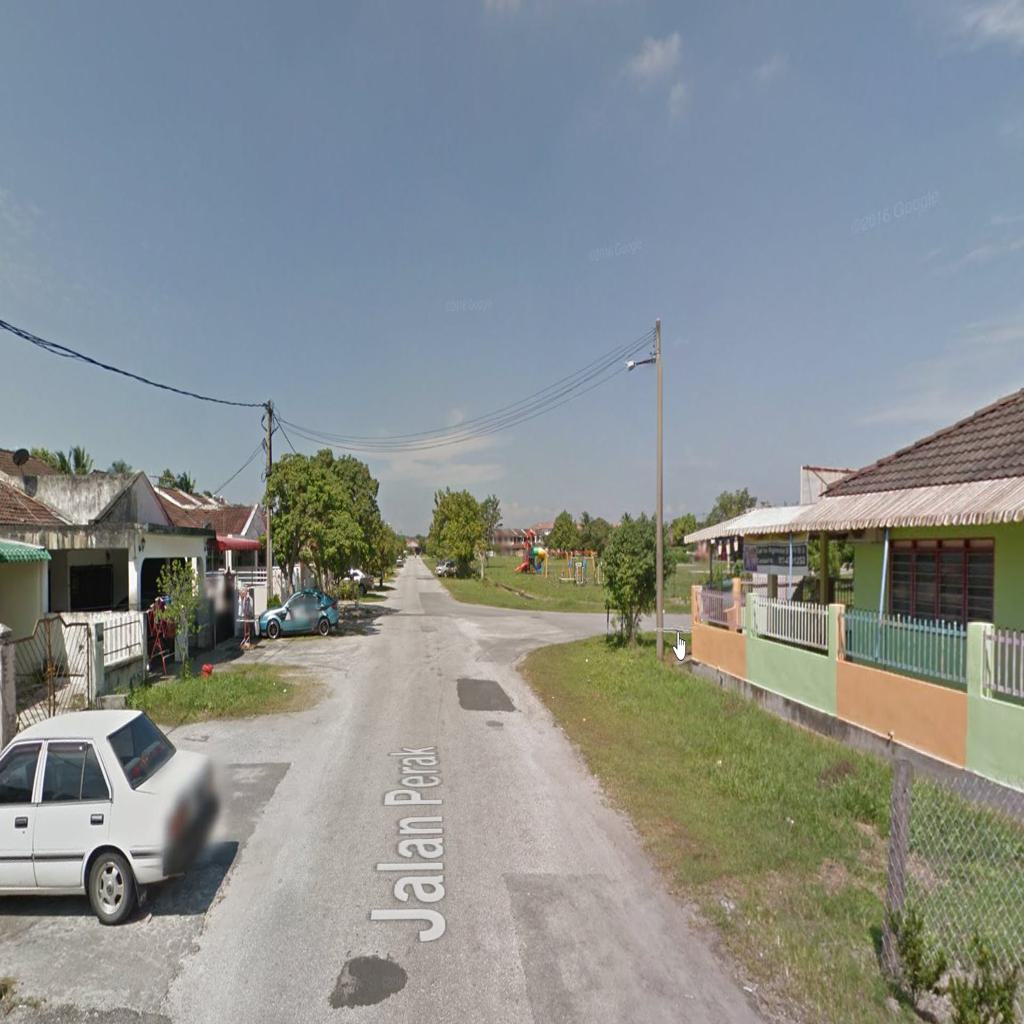Junction: (453, 592, 615, 675)
